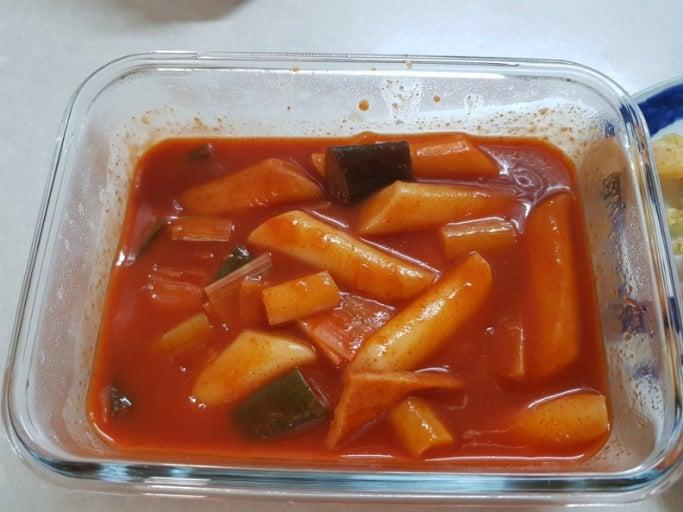Lunch Box: (2, 52, 682, 505)
